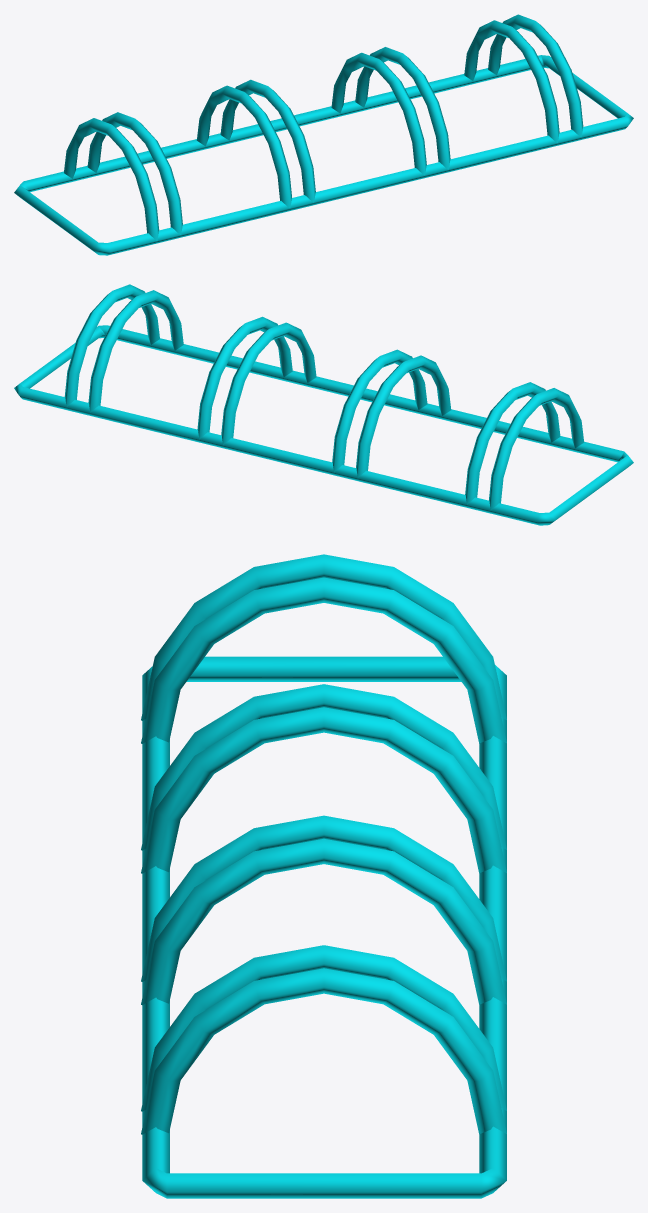
File: Poggiabici.fbx
The picture shows the model from 3 angles, top to bottom: view 1: azimuth 30°, elevation 25°; view 2: azimuth 150°, elevation 25°; view 3: azimuth 270°, elevation 25°; orthographic projection. The views are drawn at different scales.
Visible parts, largest first — view 1: poggiabici; view 2: poggiabici; view 3: poggiabici.
Part boxes in pixels (<box>): poggiabici: <box>14,14,633,255</box>; poggiabici: <box>14,284,633,525</box>; poggiabici: <box>141,554,506,1198</box>.
Size of the model in its own units: 107 by 16.89 by 31.4.
